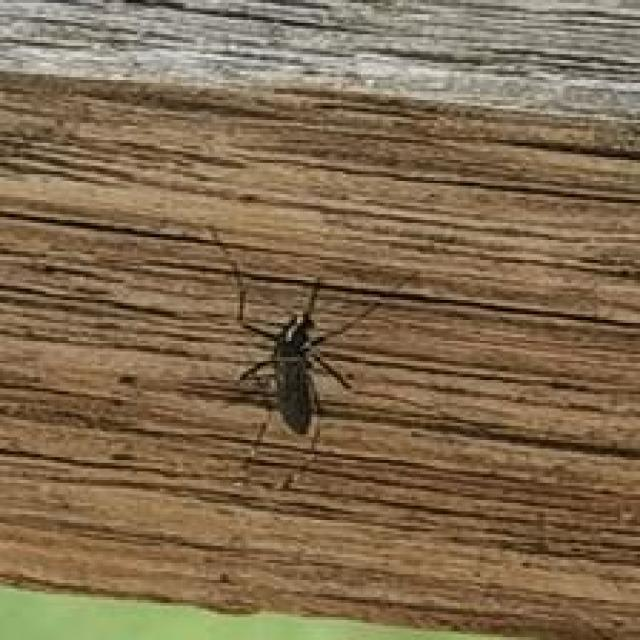Aedes albopictus: (223, 261, 386, 490)
